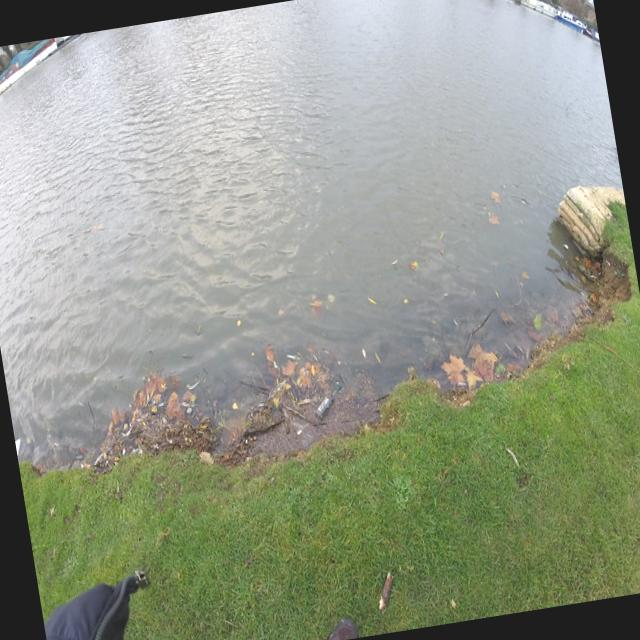Recycle: (314, 383, 348, 422)
